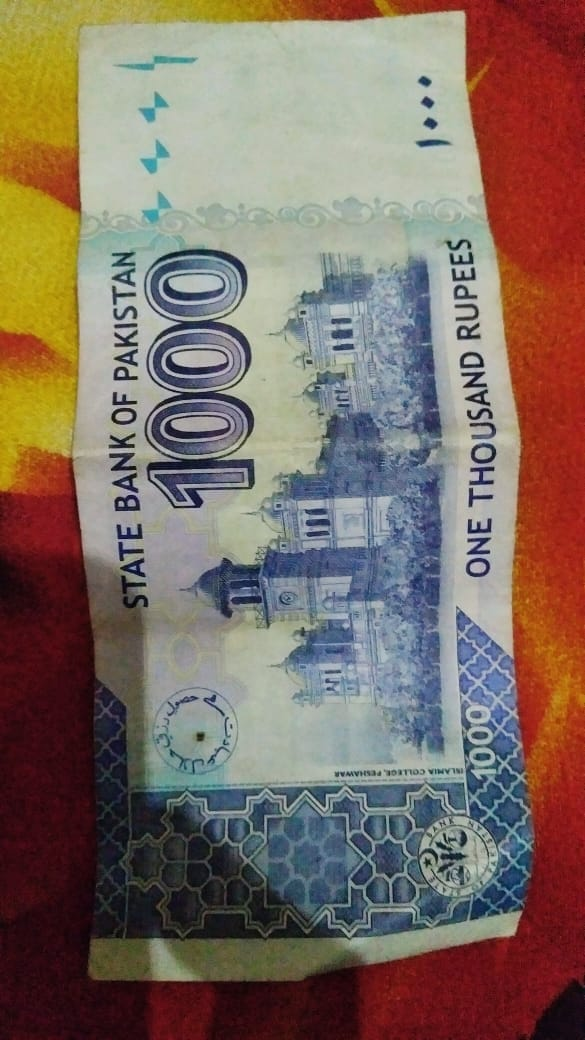1000 rupee: (60, 7, 545, 989)
